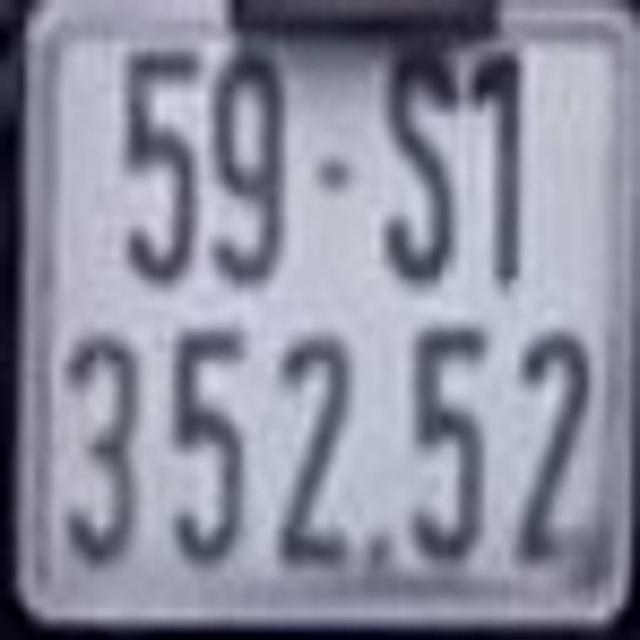1: (463, 23, 538, 288)
2: (275, 320, 357, 565), (517, 311, 596, 562)
3: (58, 316, 142, 574)
5: (99, 42, 204, 293), (399, 314, 493, 573), (164, 308, 254, 574)
9: (204, 34, 288, 301)
S: (373, 33, 463, 290)
